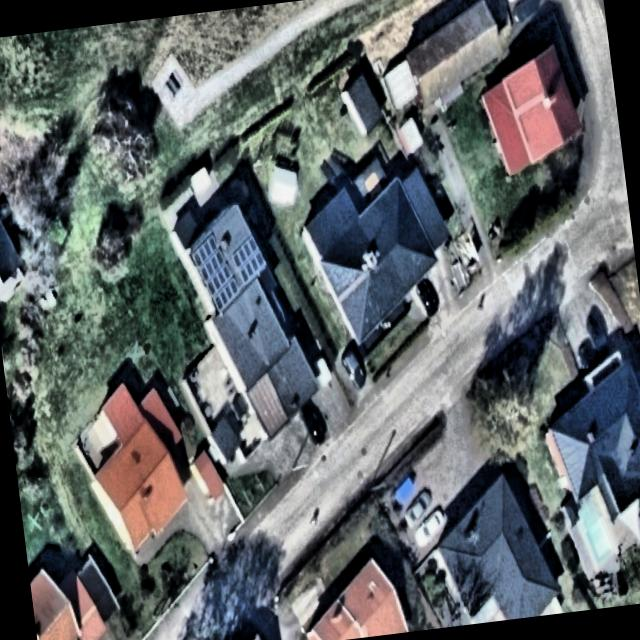roof_pv: (191, 231, 238, 314), (228, 235, 269, 288)
